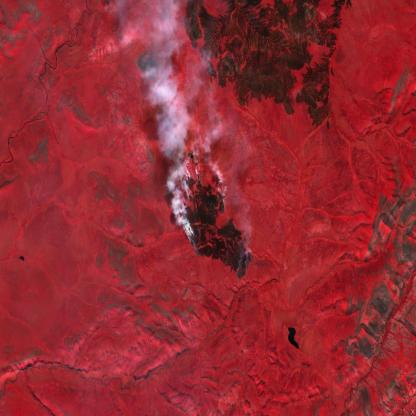fire: (175, 173, 253, 288)
